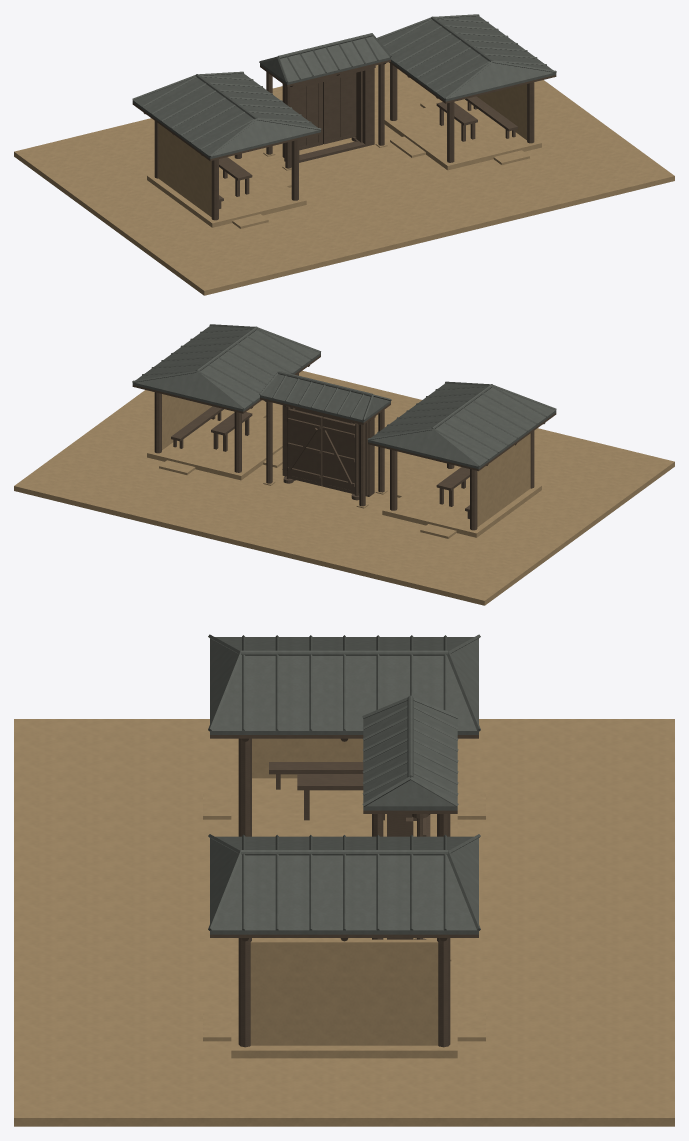
The model's file is guard-slice-closed-LOD1.glb.
The picture shows the model from 3 angles, top to bottom: view 1: azimuth 30°, elevation 25°; view 2: azimuth 150°, elevation 25°; view 3: azimuth 270°, elevation 25°; orthographic projection. The views are drawn at different scales.
Parts seen in each view (by area): view 1: guard-slice-ground-earth, guard-slice-west-tile, guard-slice-east-tile, guard-slice-west-earth, guard-slice-east-earth, guard-slice-portal-timber, guard-slice-portal-tile, guard-slice-east-timber, guard-slice-west-timber, guard-slice-leaf_R-timber, guard-slice-leaf_L-timber; view 2: guard-slice-ground-earth, guard-slice-west-tile, guard-slice-east-tile, guard-slice-west-earth, guard-slice-east-earth, guard-slice-portal-tile, guard-slice-portal-timber, guard-slice-east-timber, guard-slice-leaf_L-timber, guard-slice-leaf_R-timber, guard-slice-west-timber; view 3: guard-slice-ground-earth, guard-slice-east-tile, guard-slice-east-earth, guard-slice-west-tile, guard-slice-west-earth, guard-slice-portal-tile, guard-slice-west-timber, guard-slice-east-timber, guard-slice-portal-timber.
Boxes of the visible parts, bbox=[...] form: guard-slice-ground-earth: bbox=[14, 62, 674, 295]; guard-slice-west-tile: bbox=[132, 71, 321, 159]; guard-slice-east-tile: bbox=[377, 14, 556, 101]; guard-slice-west-earth: bbox=[147, 123, 306, 228]; guard-slice-east-earth: bbox=[384, 84, 541, 170]; guard-slice-portal-timber: bbox=[260, 60, 390, 168]; guard-slice-portal-tile: bbox=[259, 33, 391, 84]; guard-slice-east-timber: bbox=[389, 62, 556, 162]; guard-slice-west-timber: bbox=[132, 103, 320, 220]; guard-slice-leaf_R-timber: bbox=[323, 73, 356, 144]; guard-slice-leaf_L-timber: bbox=[299, 82, 322, 150]; guard-slice-ground-earth: bbox=[14, 370, 674, 605]; guard-slice-west-tile: bbox=[367, 381, 556, 469]; guard-slice-east-tile: bbox=[132, 324, 320, 411]; guard-slice-west-earth: bbox=[382, 433, 541, 538]; guard-slice-east-earth: bbox=[147, 394, 282, 480]; guard-slice-portal-tile: bbox=[259, 371, 391, 422]; guard-slice-portal-timber: bbox=[260, 397, 390, 506]; guard-slice-east-timber: bbox=[132, 355, 320, 472]; guard-slice-leaf_L-timber: bbox=[322, 417, 358, 495]; guard-slice-leaf_R-timber: bbox=[287, 407, 322, 486]; guard-slice-west-timber: bbox=[368, 413, 556, 530]; guard-slice-ground-earth: bbox=[14, 719, 674, 1126]; guard-slice-east-tile: bbox=[208, 834, 480, 934]; guard-slice-east-earth: bbox=[203, 939, 485, 1058]; guard-slice-west-tile: bbox=[208, 634, 480, 734]; guard-slice-west-earth: bbox=[203, 738, 485, 836]; guard-slice-portal-tile: bbox=[362, 695, 458, 810]; guard-slice-west-timber: bbox=[210, 735, 478, 836]; guard-slice-east-timber: bbox=[210, 934, 478, 1047]; guard-slice-portal-timber: bbox=[363, 810, 457, 939].
Bounding box in the file's own units: 20 × 4.48 × 14.
3 materials, 3 textured.
